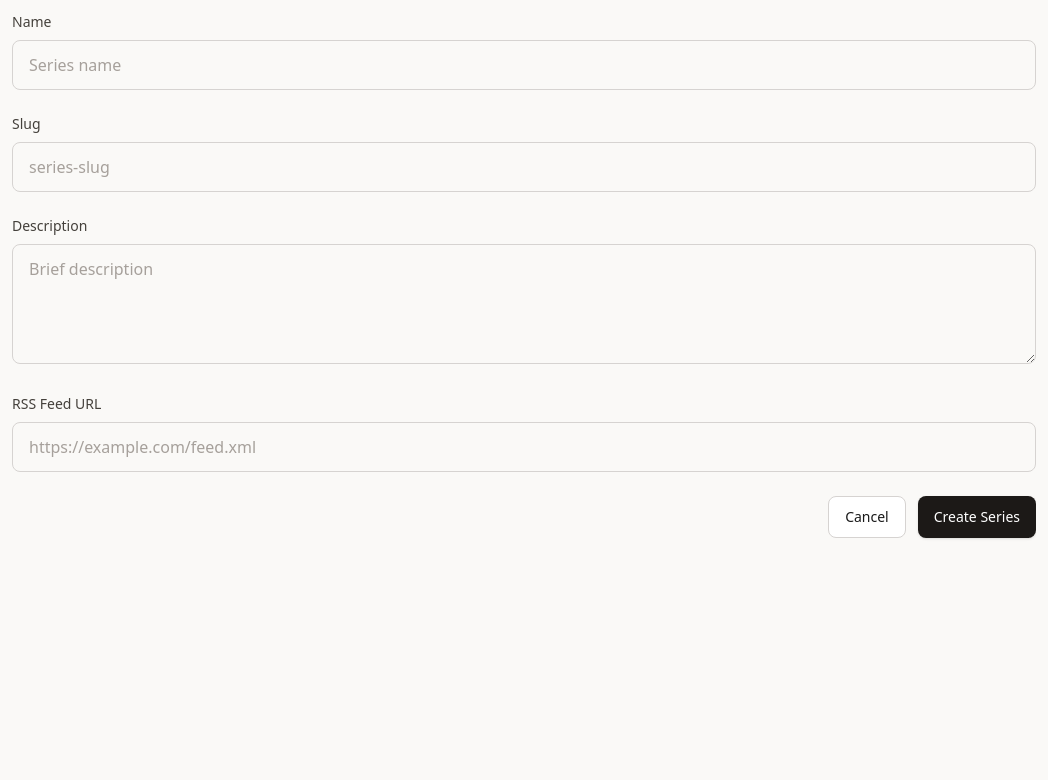
Test: SeriesForm › shows loading state during submission
Type "Test" into the field with placeholder "Series name".
click(524, 65); type("Test")  # box [12,40,1036,90]
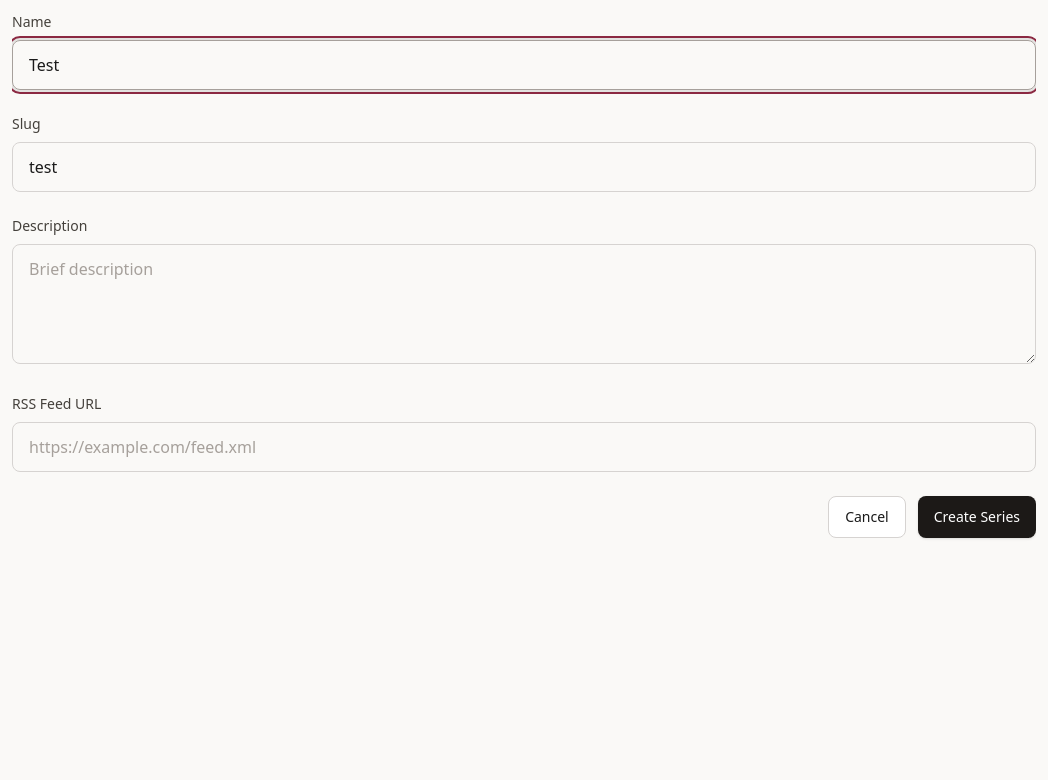
Click the button "Create Series".
click(977, 517)  # box [918,496,1036,538]
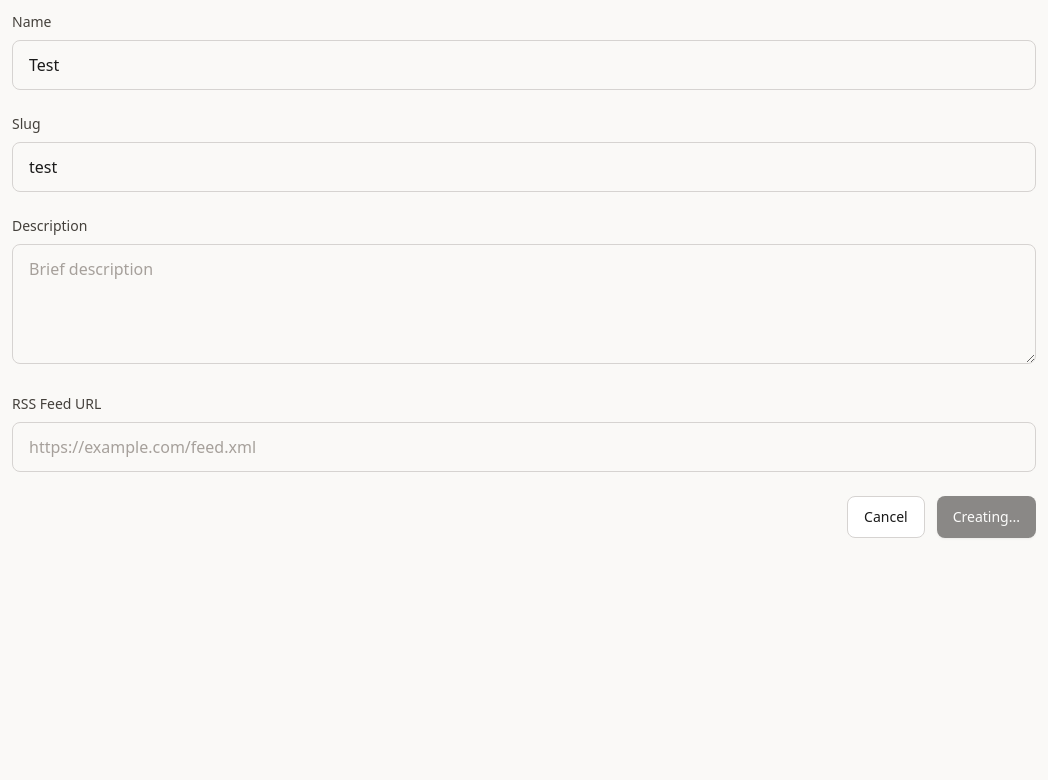
Now the button "Creating..." is disabled, box [937,496,1036,538]
